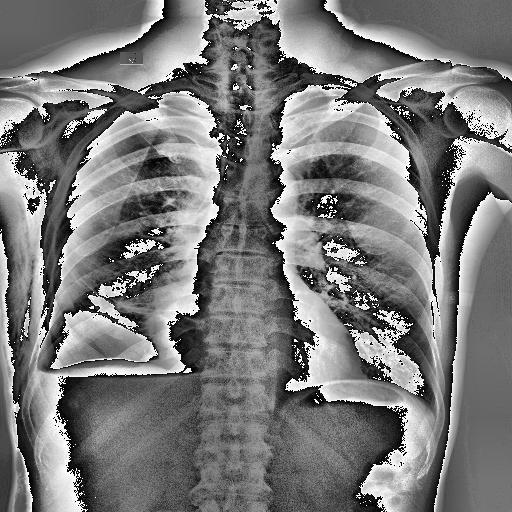0- Aortic enlargement: (240, 164, 300, 210)
10- Pleural effusion: (26, 376, 195, 400), (26, 357, 74, 405), (24, 350, 54, 402)
11- Pleural thickening: (24, 350, 54, 402)
12- Pneumothorax: (30, 310, 198, 376), (35, 304, 180, 374), (37, 315, 171, 371)
13- Pulmonary fibrosis: (70, 271, 196, 333), (71, 271, 163, 338)
9- Other lesion: (3, 191, 50, 421), (8, 178, 52, 416), (4, 222, 40, 432)
